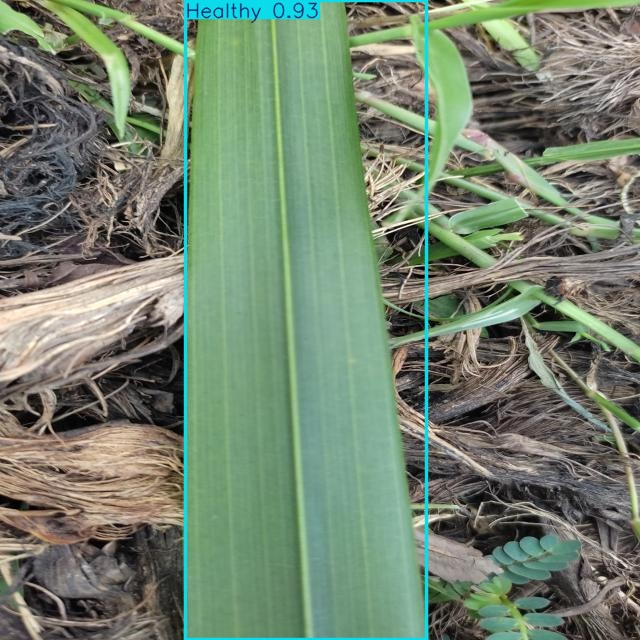Healthy: (185, 0, 427, 640)
